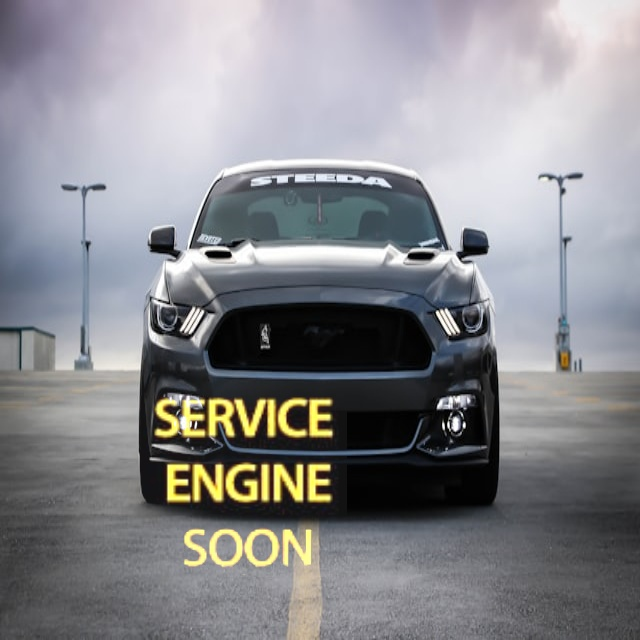symbol: (138, 381, 347, 590), (435, 58, 568, 191)
